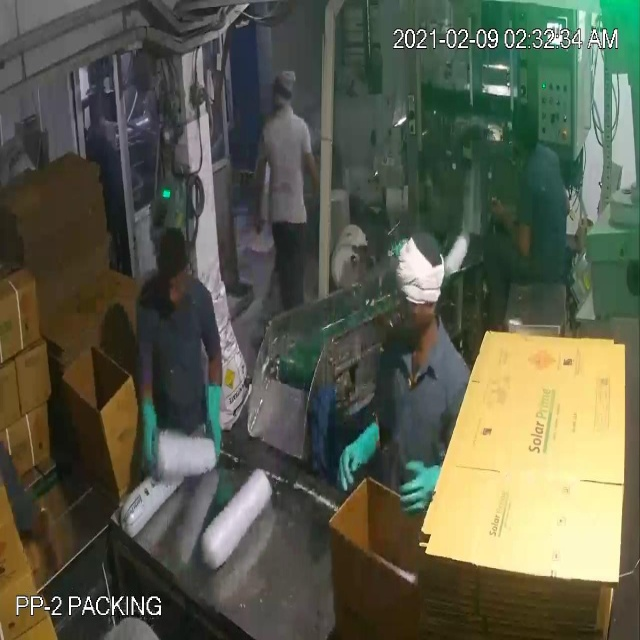Guantes: (123, 370, 172, 484), (328, 404, 389, 492), (392, 448, 448, 523), (194, 364, 229, 470)
Sin_guantes: (484, 181, 542, 263), (295, 125, 334, 226), (247, 146, 271, 241)
